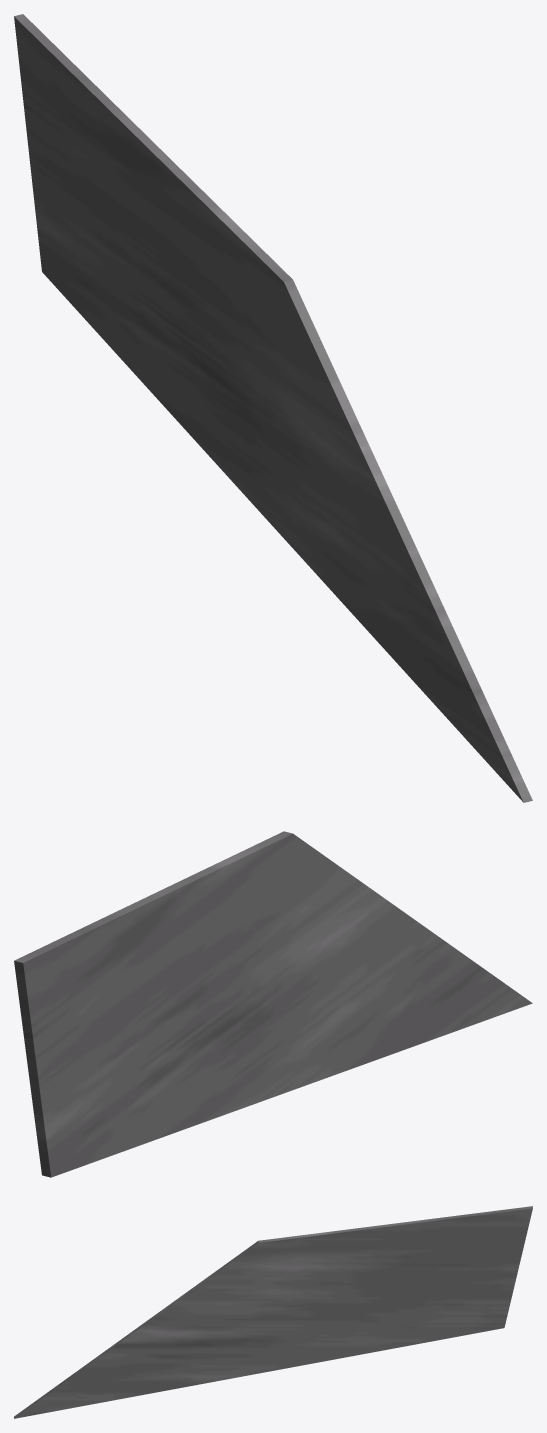
Rendered from Shard.glb.
The picture shows the model from 3 angles, top to bottom: view 1: azimuth 30°, elevation 25°; view 2: azimuth 150°, elevation 25°; view 3: azimuth 270°, elevation 25°; orthographic projection. The views are drawn at different scales.
Visible parts, largest first — view 1: Shard; view 2: Shard; view 3: Shard.
Part boxes in pixels (box(x1,y1,x2,y2)): Shard: box(14, 14, 532, 802); Shard: box(14, 831, 532, 1177); Shard: box(14, 1206, 532, 1418).
Bounding box in the file's own units: 0.0932 × 4 × 8.94.
Materials: 1 (1 with a texture image).
